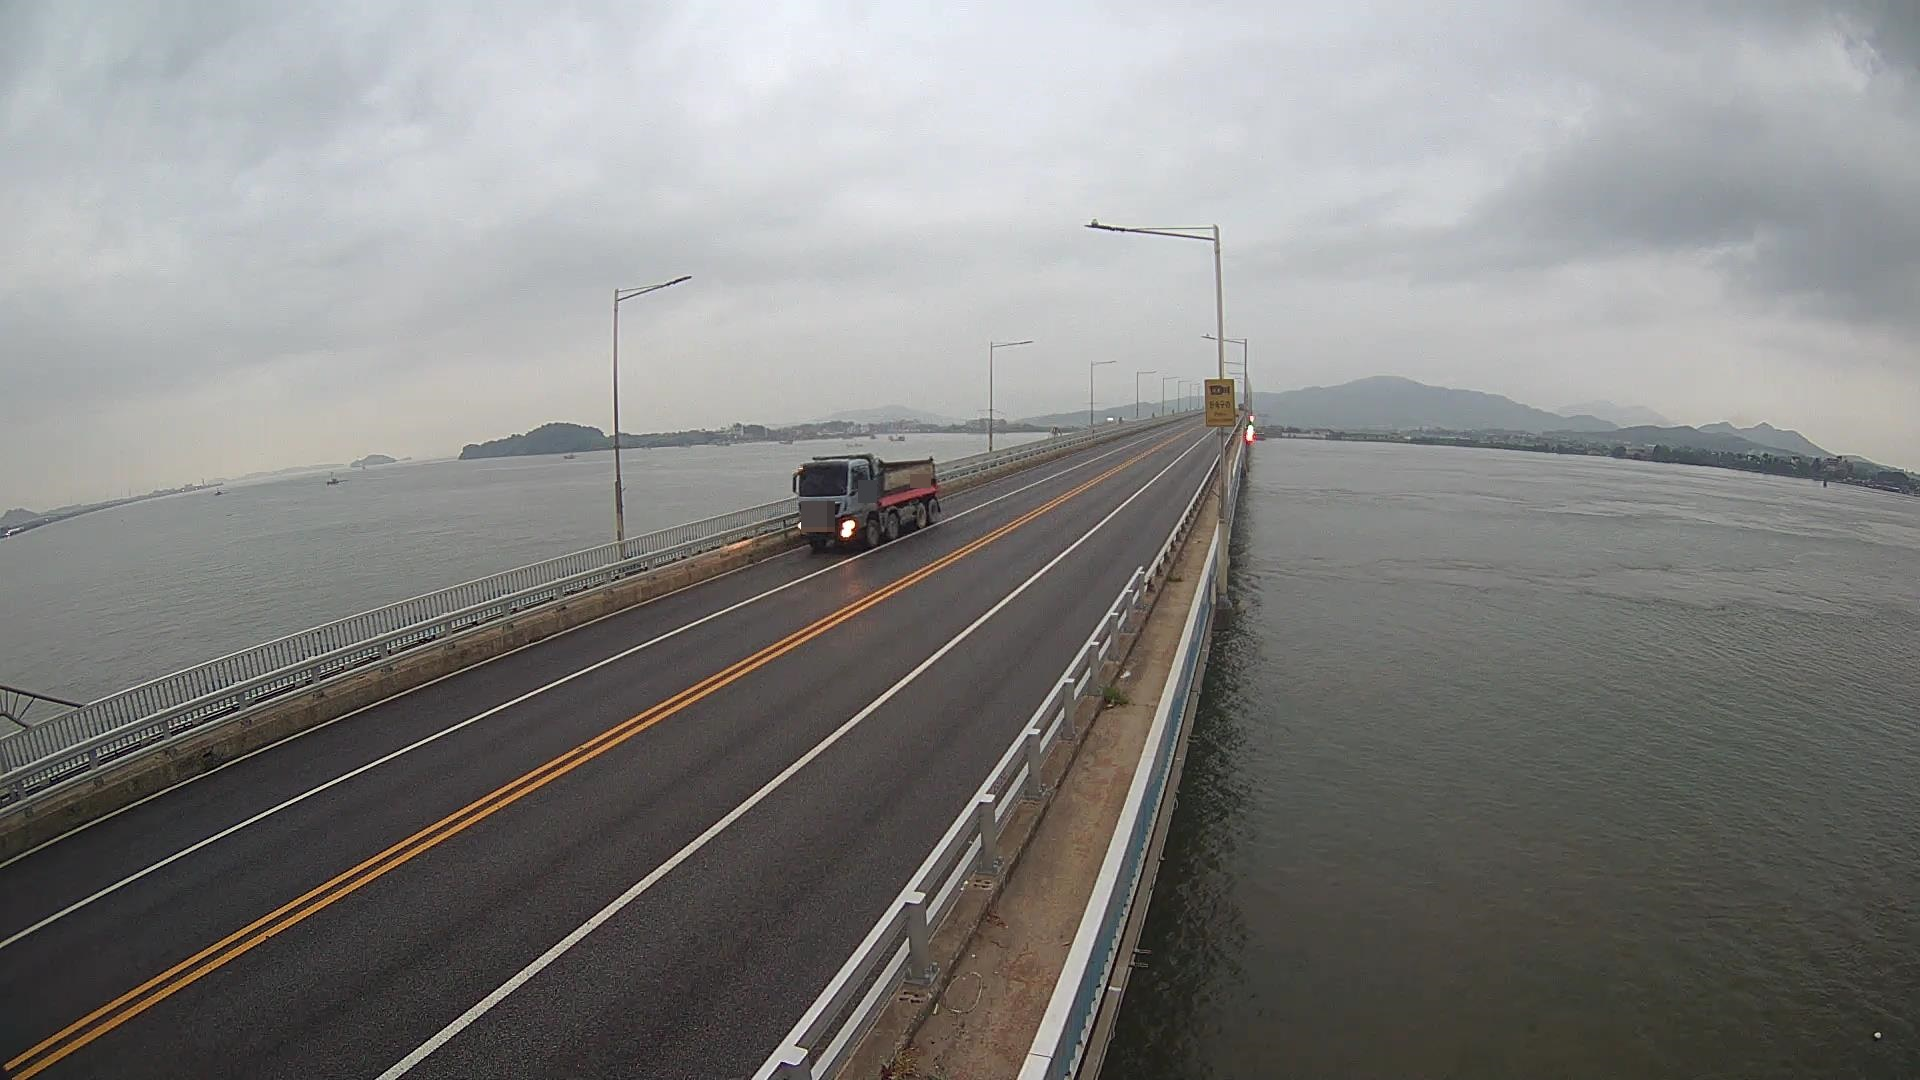정상차량: (793, 452, 942, 549)
